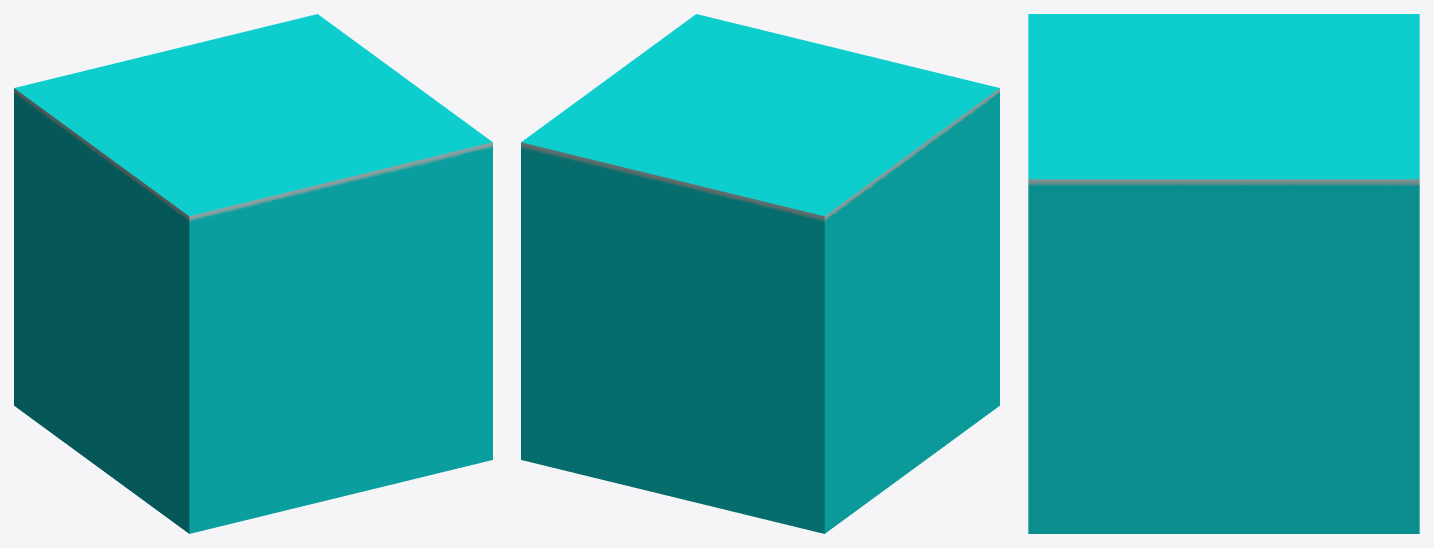
File: OceanVolume_500x500x500_subdiv50.fbx
3 renders of one model, left to right at view 1: azimuth 30°, elevation 25°; view 2: azimuth 150°, elevation 25°; view 3: azimuth 270°, elevation 25°, orthographic. The views are drawn at different scales.
Parts seen in each view (by area): view 1: OceanVolume500x500x500_subDiv50; view 2: OceanVolume500x500x500_subDiv50; view 3: OceanVolume500x500x500_subDiv50.
Part boxes in pixels (x1,y1,x2,y2): OceanVolume500x500x500_subDiv50: (14, 14, 492, 533); OceanVolume500x500x500_subDiv50: (521, 14, 999, 533); OceanVolume500x500x500_subDiv50: (1028, 14, 1419, 533).
Size of the model in its own units: 500 by 500 by 500.
